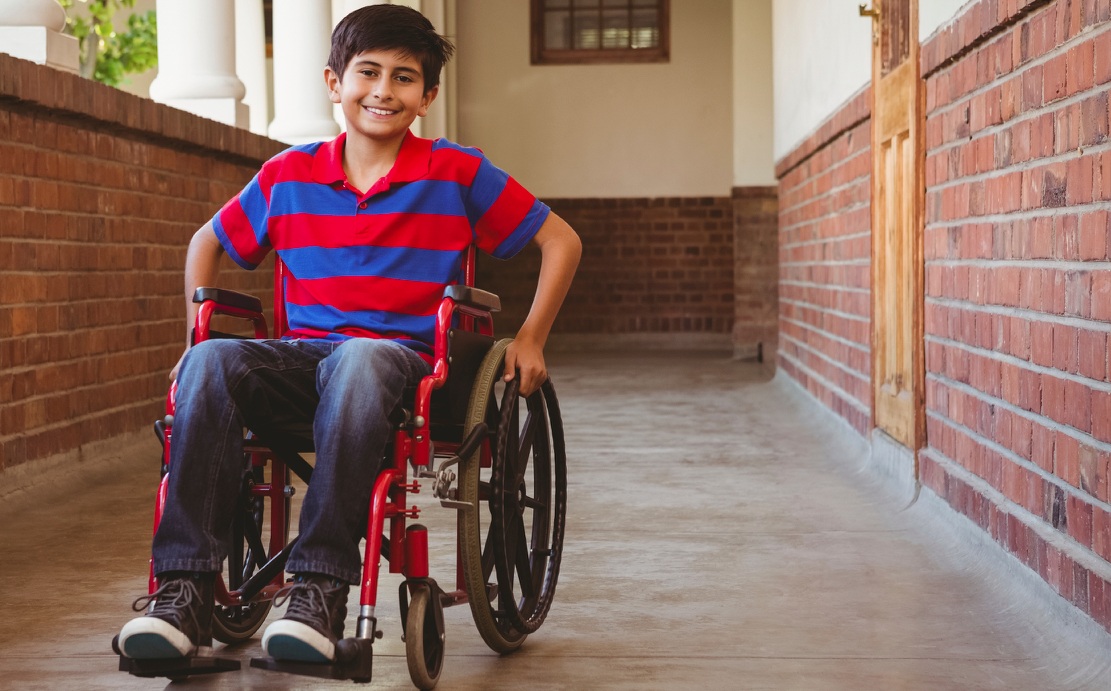person: (152, 7, 588, 311)
wheelchair: (109, 309, 577, 680)
